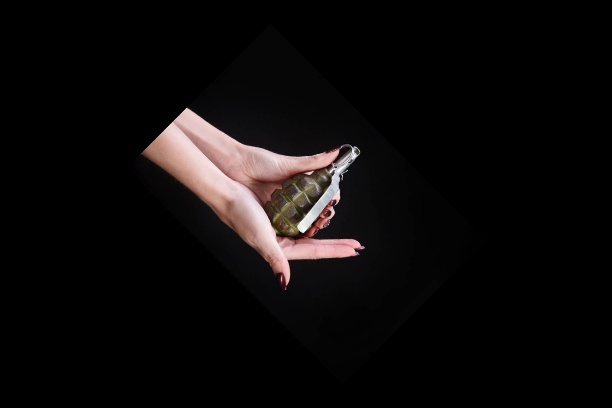e1: (269, 141, 364, 241)
